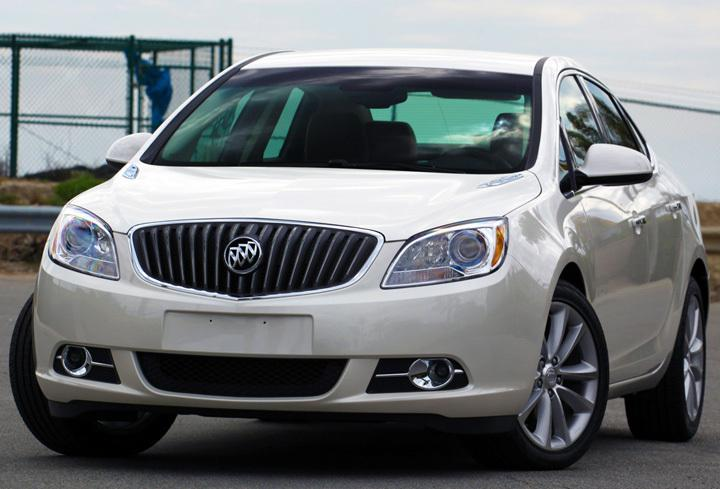Car: (1, 19, 720, 480)
